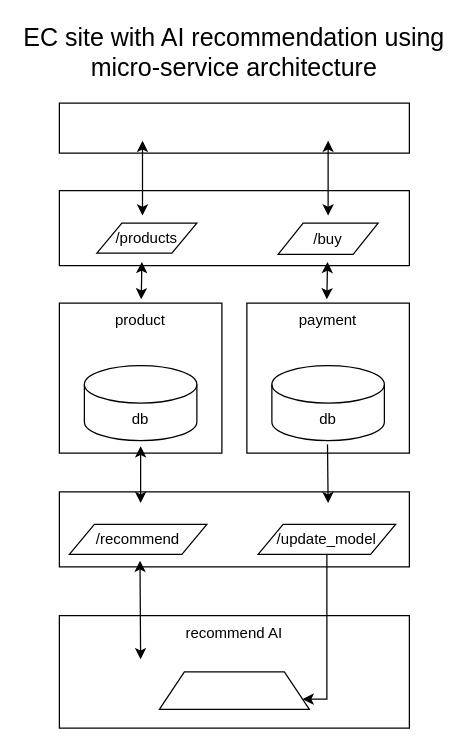
Some shapes in this 468 by 750 pixel diagram are drawn without their labels. Each missing label, with the box of its shape:
API layer for AI: (58, 491, 409, 567)
API layer for front: (58, 189, 409, 266)
frontend: (58, 102, 409, 153)
model: (158, 671, 309, 709)
